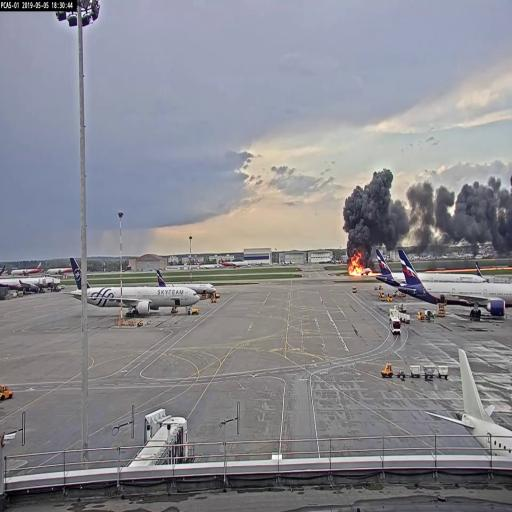fire: (352, 256, 370, 283)
smoke: (438, 176, 512, 250), (345, 171, 401, 247), (406, 177, 436, 237)
